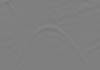hyperbola: (20, 24, 87, 60)
